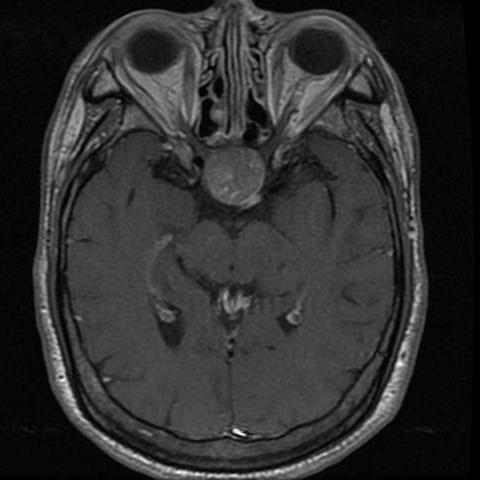Tumour-Pituitary: (204, 148, 266, 210)
